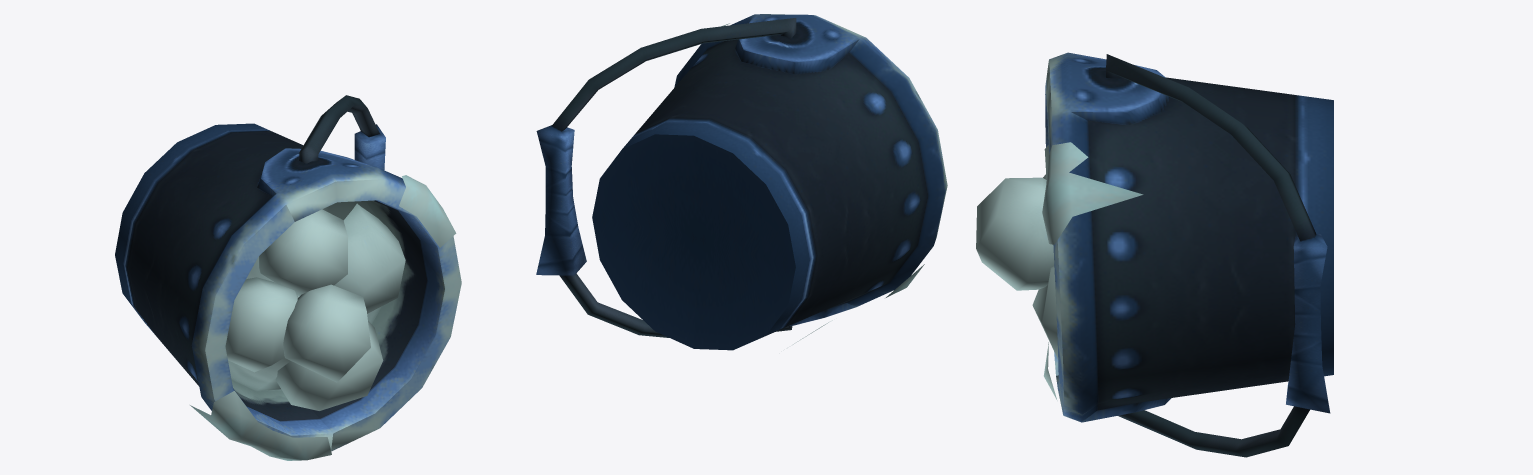
3 renders of one model, left to right at view 1: azimuth 30°, elevation 25°; view 2: azimuth 150°, elevation 25°; view 3: azimuth 270°, elevation 25°, orthographic. The views are drawn at different scales.
Parts seen in each view (by area): view 1: snowbucket.part_model-MeshNodes["mesh_bucket_skew"]; view 2: snowbucket.part_model-MeshNodes["mesh_bucket_skew"]; view 3: snowbucket.part_model-MeshNodes["mesh_bucket_skew"].
Part boxes in pixels (x1,y1,x2,y2): snowbucket.part_model-MeshNodes["mesh_bucket_skew"]: (115, 95, 461, 460); snowbucket.part_model-MeshNodes["mesh_bucket_skew"]: (536, 14, 947, 350); snowbucket.part_model-MeshNodes["mesh_bucket_skew"]: (976, 52, 1333, 457).
Bounding box in the file's own units: 0.8963 × 0.8908 × 1.21.
Materials: 2 (2 with a texture image).
